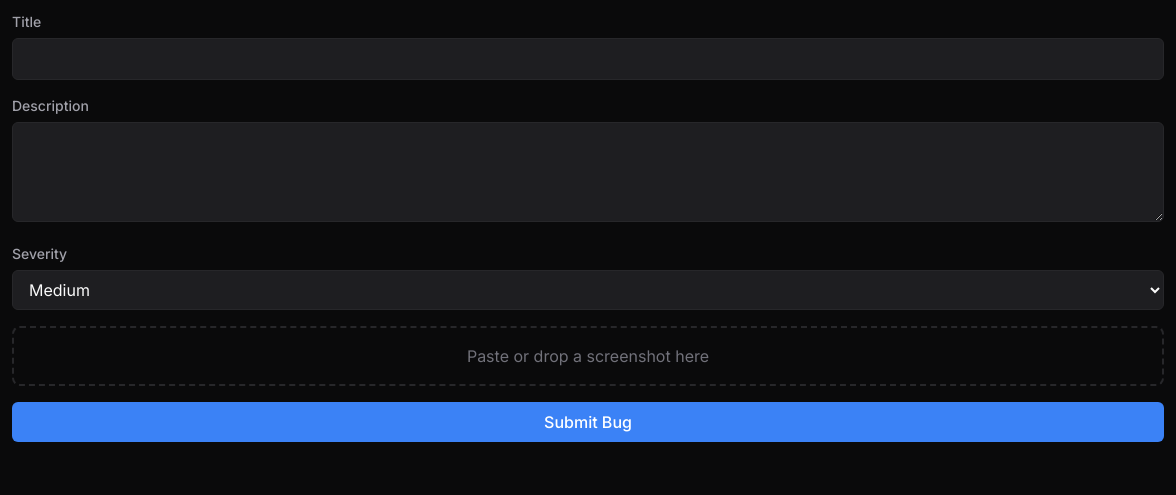
Test: BugSubmitPanel › shows success message
In the field labelled "Title": (588, 59) [12,38,1164,80], type "Bug"
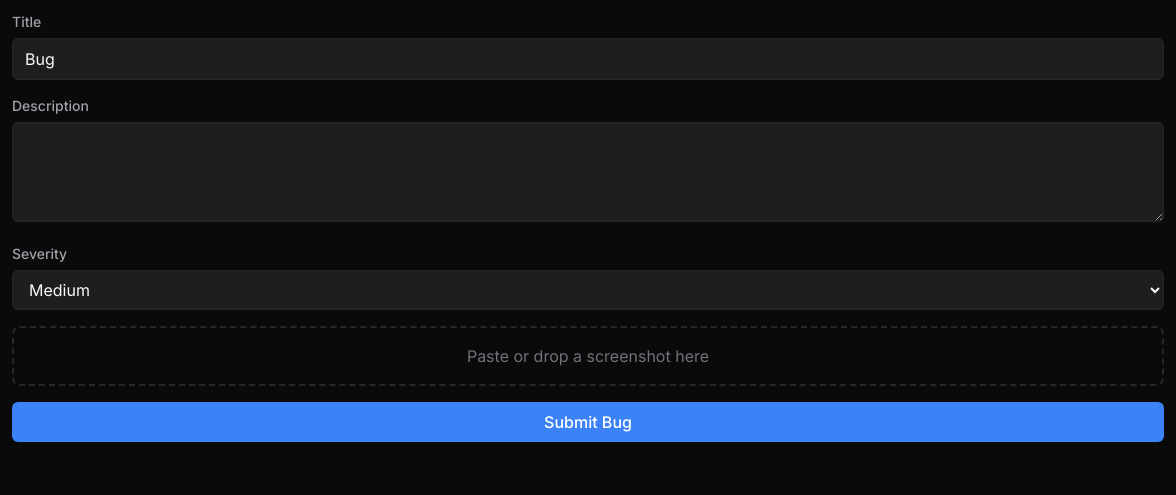
Click the button "Submit Bug": (588, 422) [12,402,1164,442]
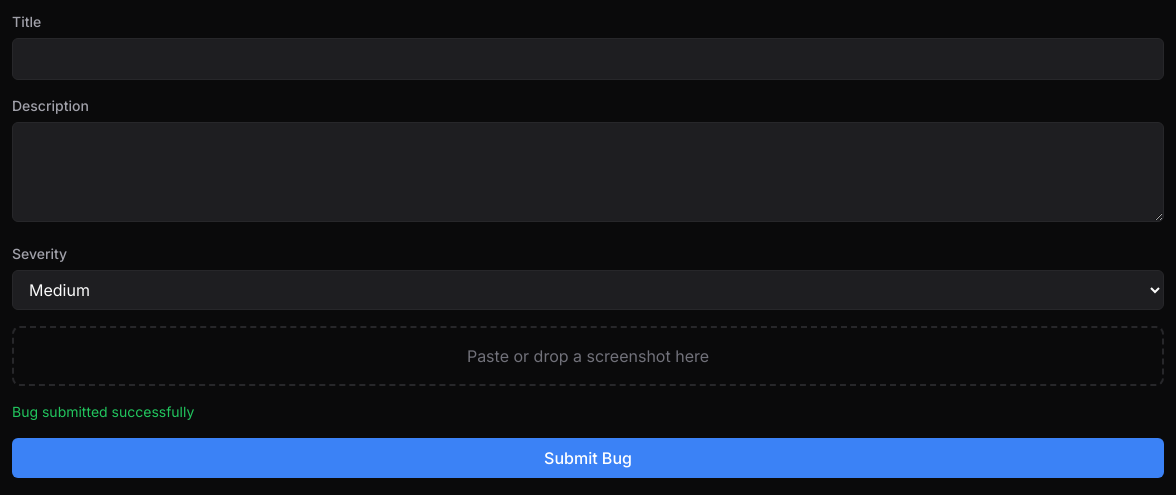
Expected: the text "Bug submitted successfully" is shown, [12,403,194,420]
